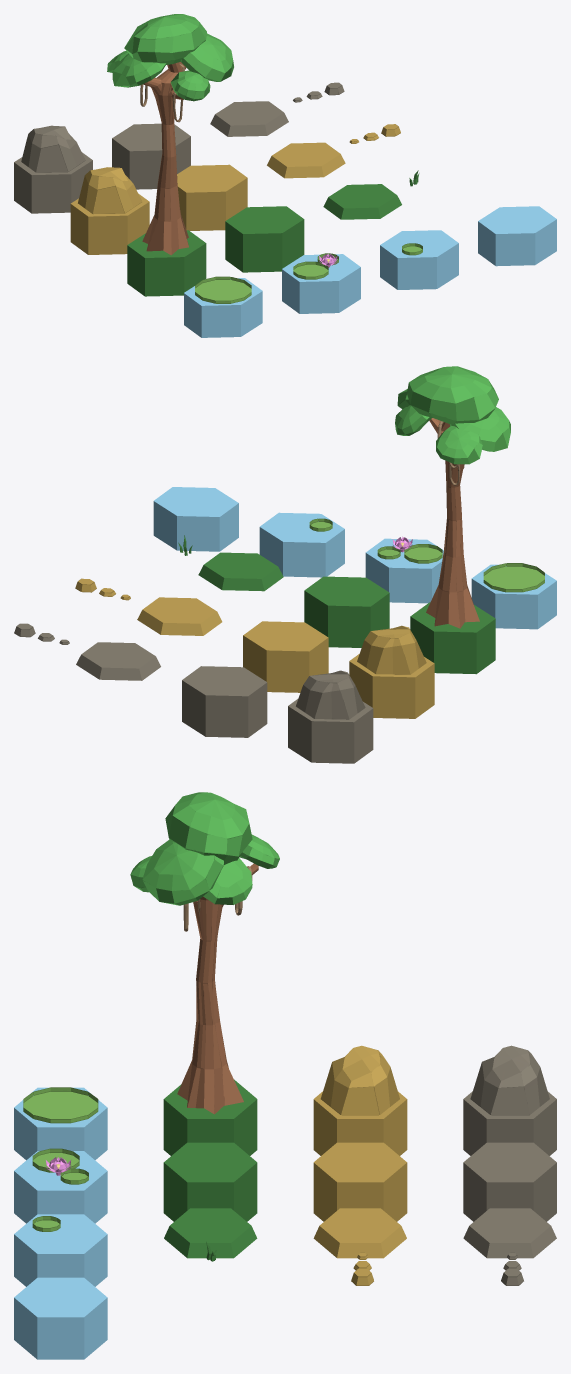
Rendered from terrain (1).fbx.
3 views of the same model, one above another, from view 1: azimuth 30°, elevation 25°; view 2: azimuth 150°, elevation 25°; view 3: azimuth 270°, elevation 25° (orthographic). The views are drawn at different scales.
Parts seen in each view (by area): view 1: cylinder_15, cylinder_5, cylinder_22, cylinder_17, cylinder_23, cylinder_14, cylinder_24, cylinder_20, cylinder_18, sphere_4, cylinder_21, cylinder_25 (+10 smaller); view 2: cylinder_20, cylinder_15, cylinder_17, cylinder_22, cylinder_23, cylinder_14, sphere_4, cylinder_5, cylinder_21, cylinder_18, cylinder_25, cylinder_24 (+10 smaller); view 3: cylinder_22, cylinder_5, cylinder_15, cylinder_17, cylinder_20, cylinder_23, cylinder_24, sphere_4, cylinder_14, cylinder_9, cylinder_8, cylinder_18 (+10 smaller).
Part boxes in pixels (box(x1,y1,x2,y2)): cylinder_15: box(225, 206, 304, 272); cylinder_5: box(142, 62, 188, 255); cylinder_22: box(478, 206, 556, 266); cylinder_17: box(177, 164, 247, 230); cylinder_23: box(380, 230, 458, 289); cylinder_14: box(127, 230, 206, 296); cylinder_24: box(282, 254, 360, 313); cylinder_20: box(112, 123, 190, 189); cylinder_18: box(70, 193, 149, 254); sphere_4: box(124, 14, 206, 64); cylinder_21: box(14, 152, 92, 213); cylinder_25: box(184, 278, 262, 337); cylinder_20: box(182, 666, 267, 737); cylinder_15: box(304, 576, 389, 647); cylinder_17: box(243, 621, 328, 692); cylinder_22: box(153, 487, 238, 551); cylinder_23: box(259, 512, 344, 577); cylinder_14: box(410, 602, 495, 674); sphere_4: box(407, 366, 498, 424); cylinder_5: box(426, 418, 479, 628); cylinder_21: box(288, 699, 373, 763); cylinder_18: box(349, 654, 434, 718); cylinder_25: box(471, 564, 556, 629); cylinder_24: box(365, 538, 443, 603); cylinder_22: box(14, 1277, 107, 1359); cylinder_5: box(177, 863, 258, 1114); cylinder_15: box(163, 1142, 257, 1221); cylinder_17: box(313, 1142, 407, 1221); cylinder_20: box(463, 1142, 556, 1221); cylinder_23: box(14, 1214, 107, 1286); cylinder_24: box(14, 1151, 107, 1223); sphere_4: box(165, 792, 252, 864); cylinder_14: box(163, 1079, 257, 1155); cylinder_9: box(470, 1045, 549, 1115); cylinder_8: box(320, 1045, 399, 1115); cylinder_18: box(313, 1091, 407, 1155).
Bounding box in the file's own units: 1535 × 1031 × 1450.
Materials: 1 (1 with a texture image).
